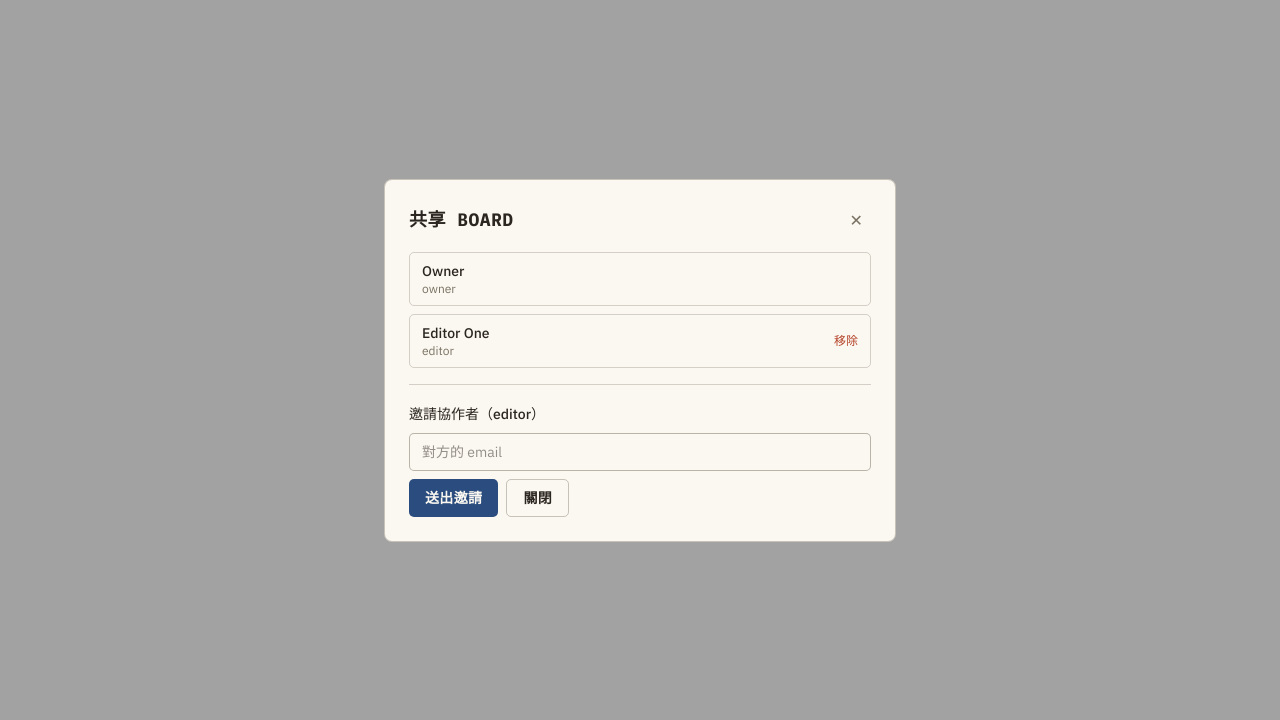
Test: BoardSharingPanel › shows a specific message when invite fails with user not found
Expected: the text "Owner" is shown, [422, 260, 464, 280]
Type "friend@example.com" into the field with placeholder "對方的 email" at [640, 452], box [409, 432, 871, 470]
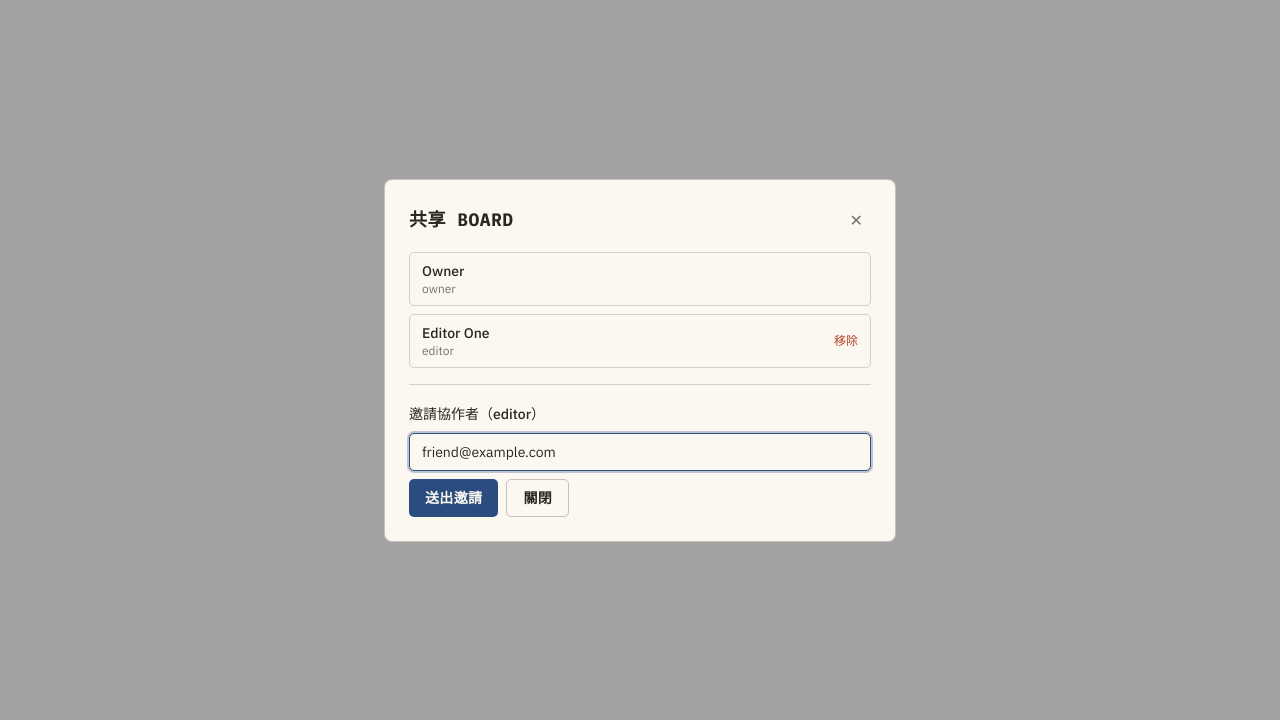
Click the button "送出邀請" at [454, 498], box [409, 478, 498, 516]
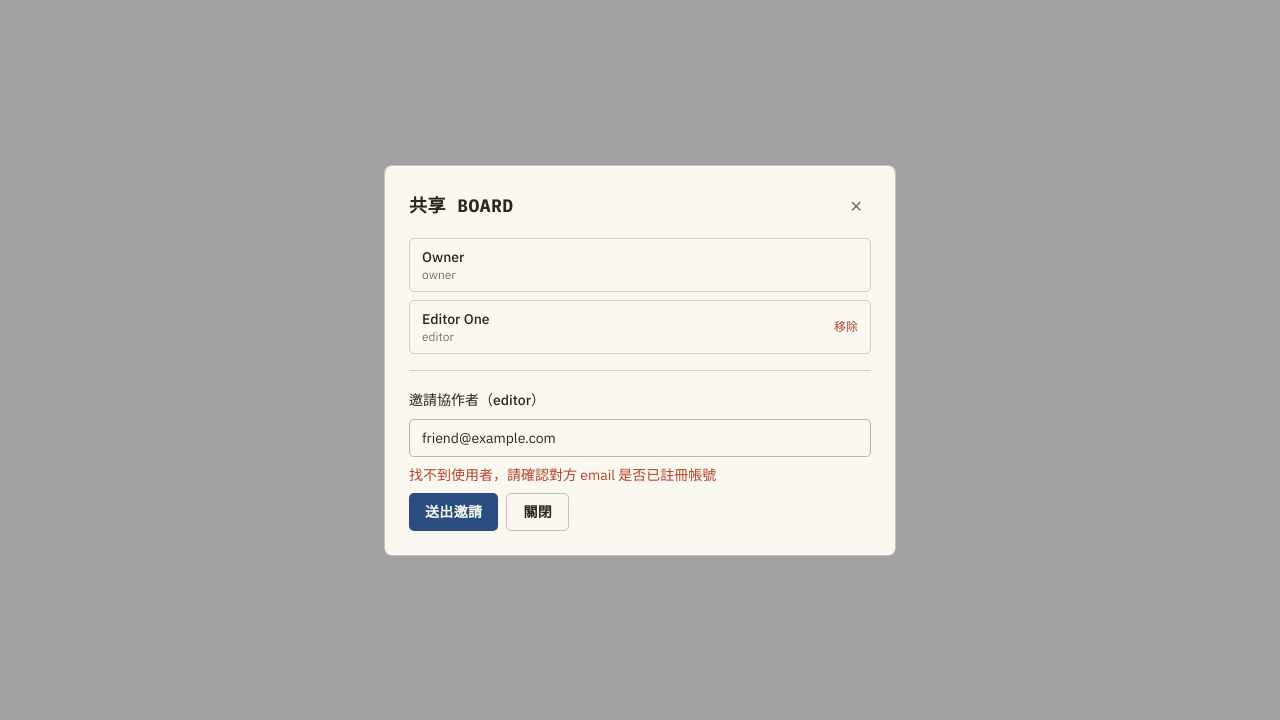
Result: the text "找不到使用者，請確認對方 email 是否已註冊帳號" is shown at [409, 466, 716, 484]
